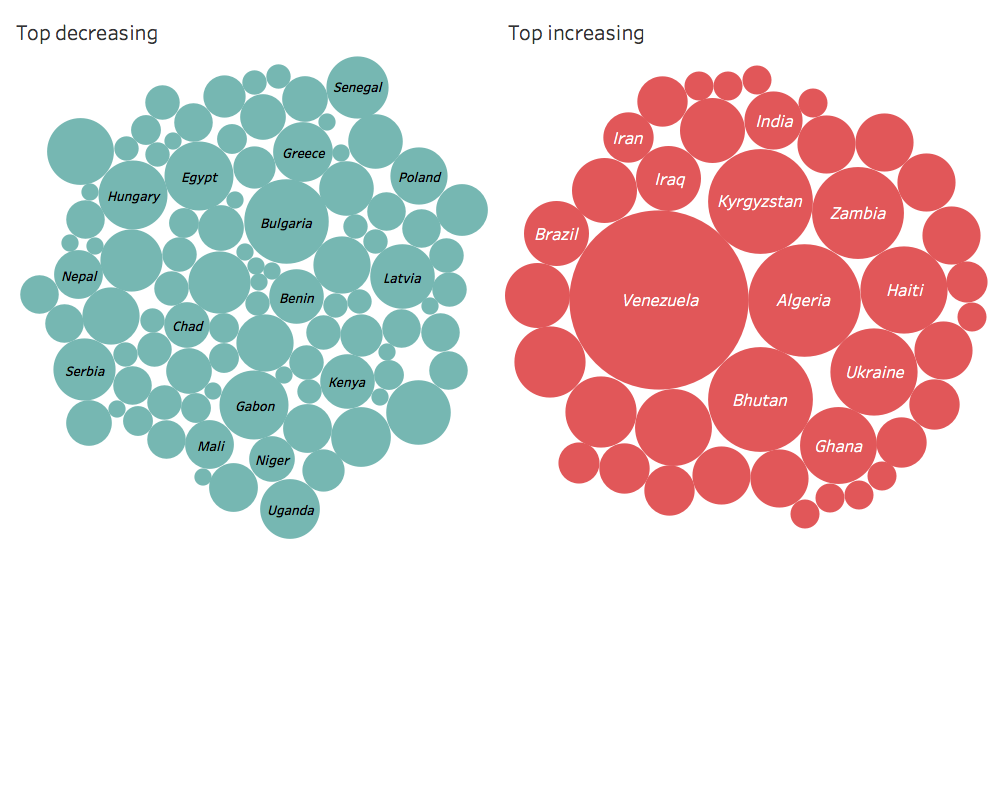

This screenshot's page, from the dashboard's own definition file:
{"tool":"tableau","page":{"name":"Dashboard 3","canvas":[1000,800],"ordinal":2},"visuals":[{"type":"worksheet","title":"Top decreasing","mark":"Circle","box":[8,8,492,784]},{"type":"worksheet","title":"Top increasing","mark":"Circle","box":[500,8,492,784]}]}

Visuals, with their boxes in screenshot pixels (x1, y1, x2, y2), scaled from the page's 1000x800 canvas onto the 1000x800 screenshot:
"Top decreasing" worksheet (Circle marks): pyautogui.locateOnScreen(8, 8, 500, 792)
"Top increasing" worksheet (Circle marks): pyautogui.locateOnScreen(500, 8, 992, 792)
